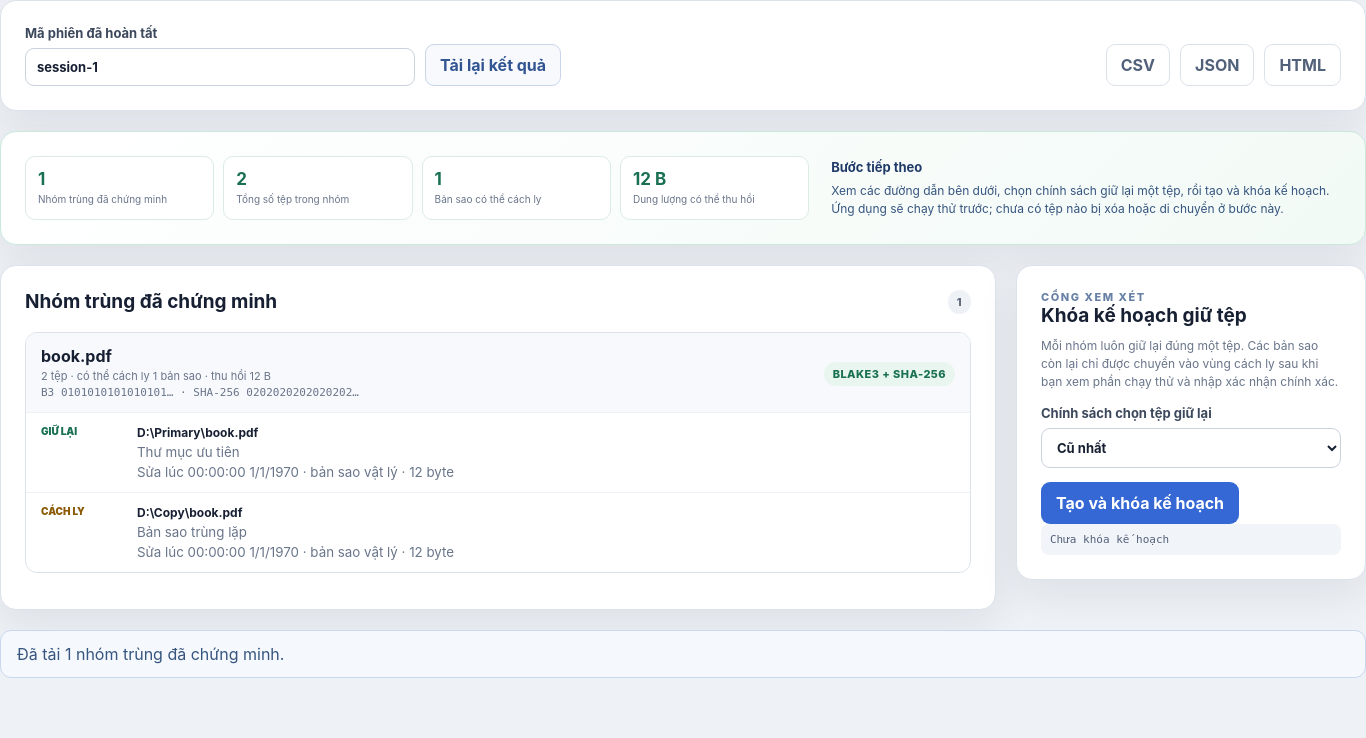
Test: desktop workflows › automatically loads proven results, summarizes removable copies, and shows dry-run totals
Select "Cũ nhất" in the dropdown labelled "Chính sách chọn tệp giữ lại" at (1191, 448), box [1041, 428, 1341, 468]
Select "Cũ nhất" in the dropdown labelled "Chính sách chọn tệp giữ lại" at (1191, 448), box [1041, 428, 1341, 468]
Click the button "Tạo và khóa kế hoạch".
click(1140, 502)  # box [1041, 482, 1239, 524]
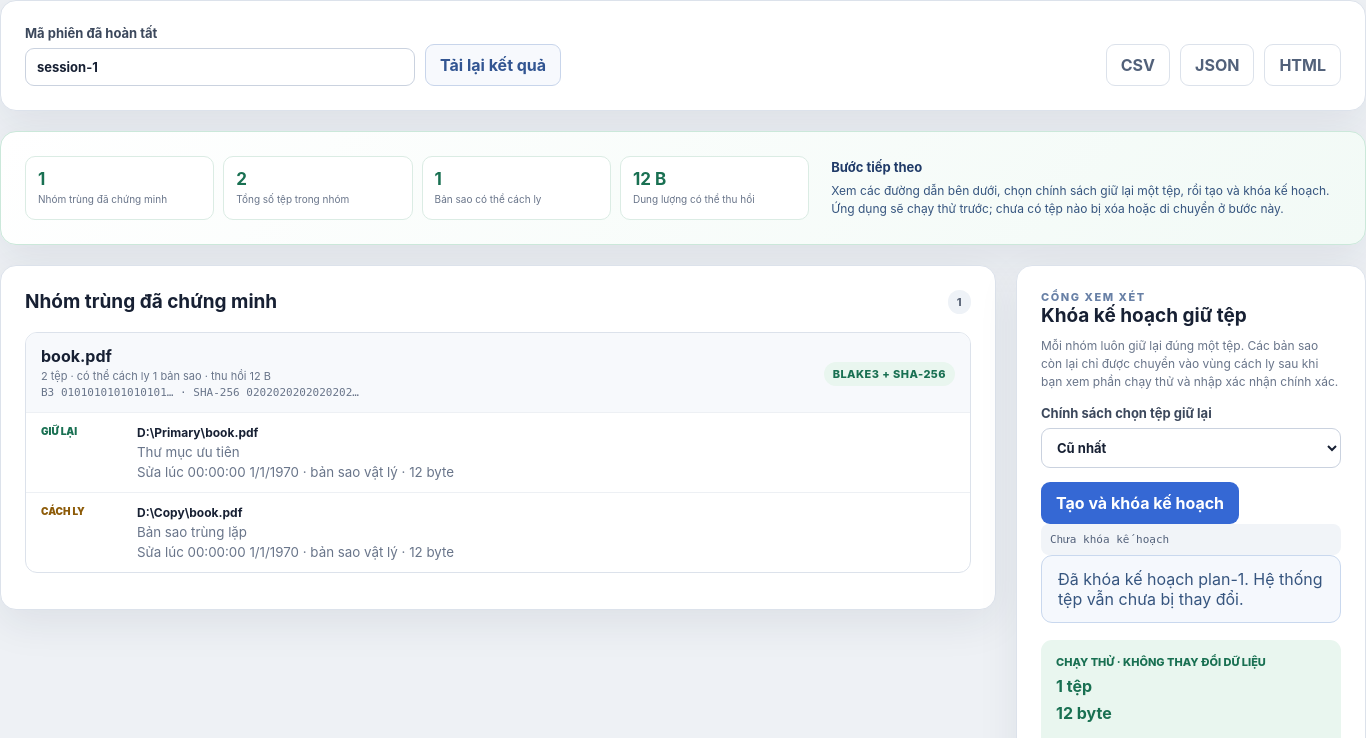
Result: the text "Chạy thử · không thay đổi dữ liệu" is shown at [1056, 654, 1266, 668]
Result: the text "1 tệp" is shown at [1056, 676, 1092, 696]
